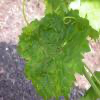grape leaf black rot: (16, 13, 91, 99)
